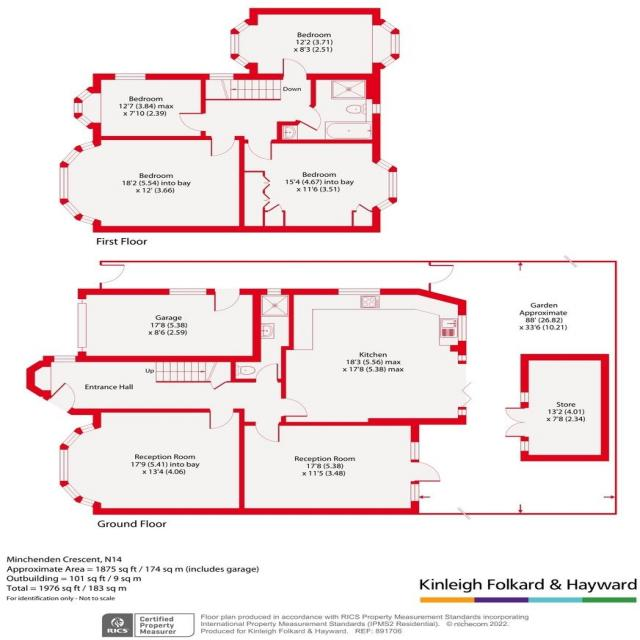DOOR: (46, 381, 77, 413), (296, 105, 323, 132), (213, 288, 242, 312), (410, 461, 441, 482), (281, 57, 308, 80), (208, 408, 235, 429), (178, 112, 206, 132), (210, 136, 236, 157), (247, 139, 273, 160), (99, 264, 126, 284), (253, 422, 280, 442), (281, 398, 308, 417), (254, 363, 279, 383)
ROOM: (281, 288, 467, 426), (59, 408, 245, 515), (239, 418, 442, 515), (59, 136, 245, 233), (239, 139, 398, 232), (230, 7, 401, 80)
WINDOW: (60, 200, 83, 218), (61, 429, 82, 448), (60, 482, 82, 500), (59, 165, 69, 200), (62, 147, 81, 165), (59, 448, 69, 482), (336, 288, 381, 295), (75, 87, 94, 102), (374, 158, 394, 172), (388, 171, 398, 199), (168, 288, 208, 295), (232, 54, 251, 68), (378, 54, 397, 68), (114, 73, 146, 81), (75, 114, 93, 128), (458, 314, 467, 342), (378, 20, 397, 33), (230, 32, 240, 56), (77, 496, 97, 508), (232, 20, 250, 33), (374, 199, 393, 211), (78, 140, 97, 152), (391, 33, 401, 55), (77, 214, 97, 225), (410, 441, 421, 461), (78, 423, 97, 434), (208, 73, 234, 80), (410, 482, 419, 502), (53, 355, 77, 362), (73, 101, 83, 114), (520, 390, 530, 403), (265, 288, 282, 295), (520, 440, 529, 452), (372, 104, 381, 114)
